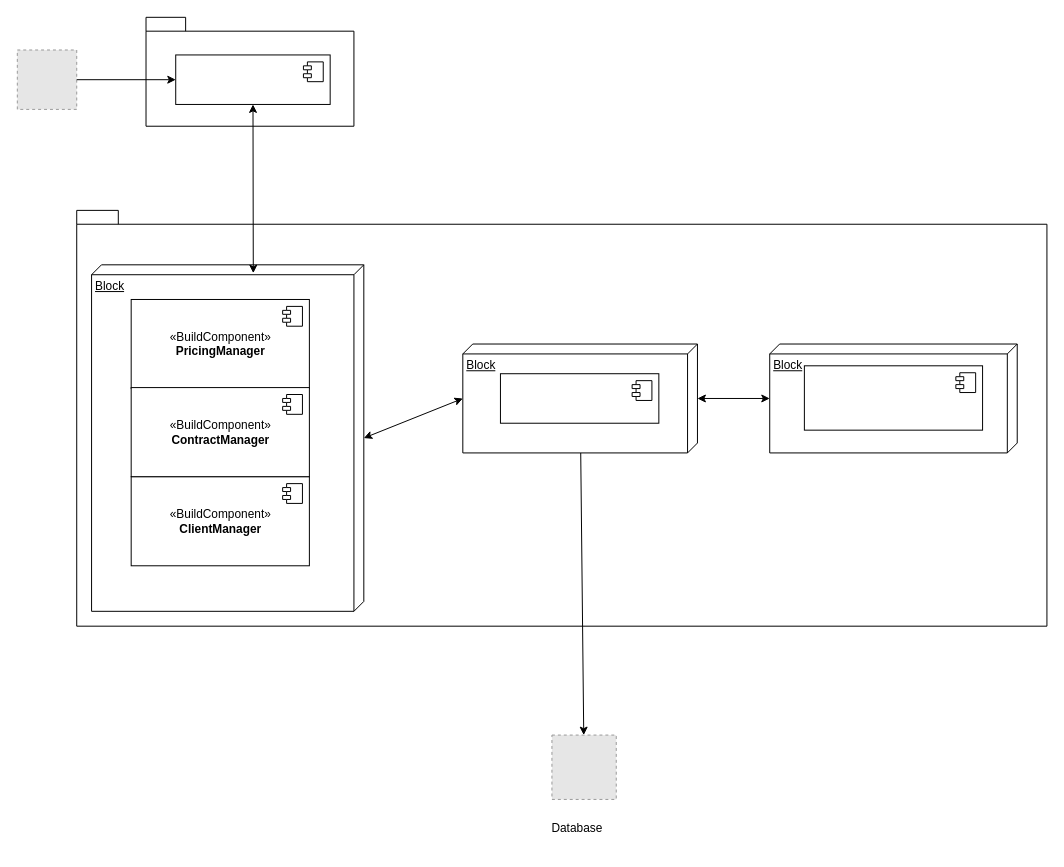
This 1064x867 diagram has some shape labels left out. Grey dashed boxes stand in for pictures. Each missing label, with the centre of its shape:
"«BuildComponent» ExternelSystemAPIManager" belongs at [893,397].
"«BuildComponent» GUI" belongs at [252,79].
"«Library» DatabaseManagaer" belongs at [579,398].
